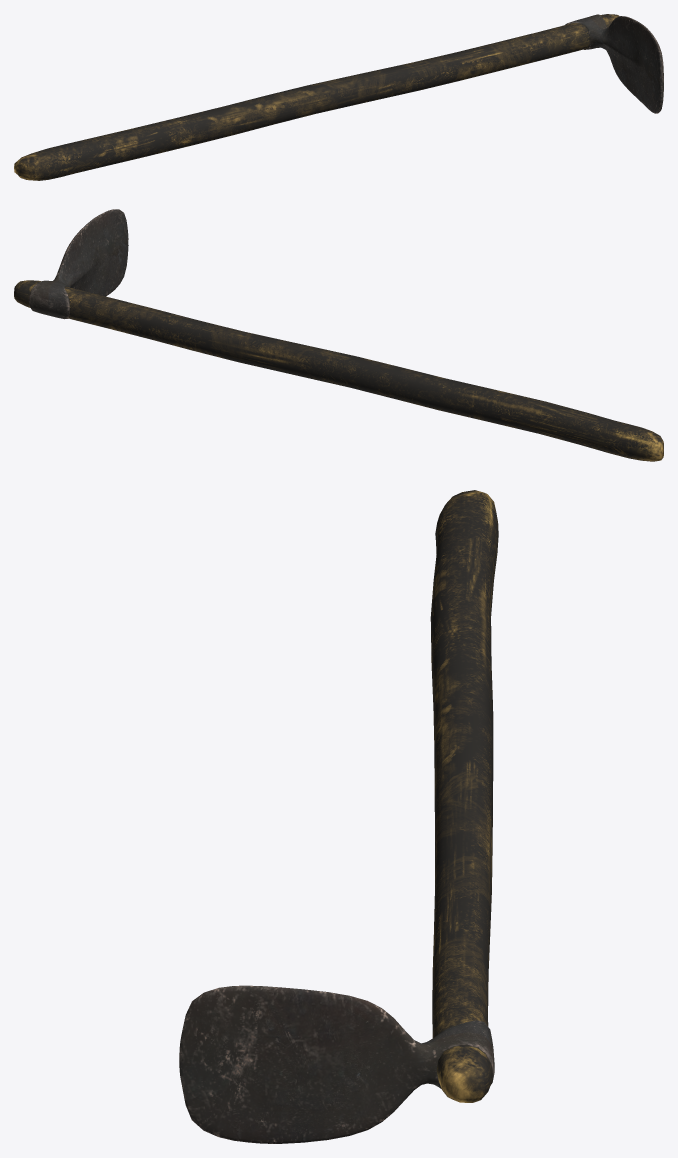
File: HT3D_21_007_GrubHoe_vrReady_v001_JRB.fbx
The picture shows the model from 3 angles, top to bottom: view 1: azimuth 30°, elevation 25°; view 2: azimuth 150°, elevation 25°; view 3: azimuth 270°, elevation 25°; orthographic projection. The views are drawn at different scales.
Visible parts, largest first — view 1: Handle_Main, Head_Main; view 2: Handle_Main, Head_Main; view 3: Head_Main, Handle_Main.
Part boxes in pixels (x1,y1,x2,y2): Handle_Main: (14, 14, 619, 180); Head_Main: (565, 14, 663, 113); Handle_Main: (14, 280, 663, 461); Head_Main: (28, 209, 128, 319); Head_Main: (179, 985, 494, 1143); Handle_Main: (430, 490, 498, 1102).
Size of the model in its own units: 7.95 by 0.9922 by 1.83.
Materials: 2 (2 with a texture image).
